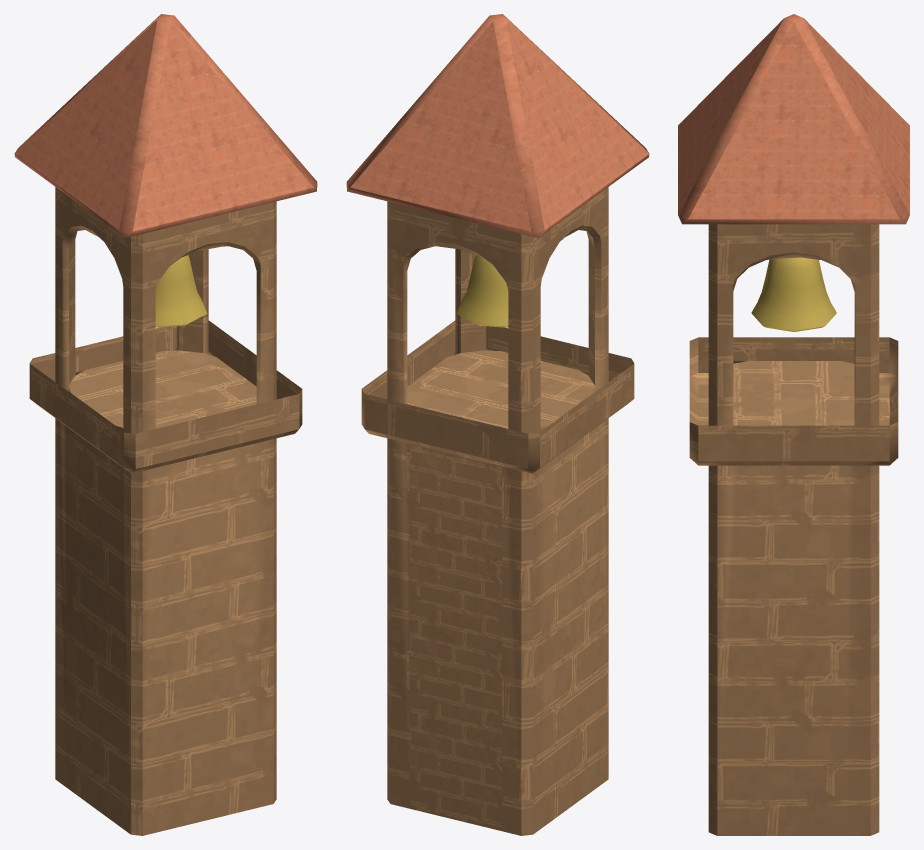
The model's file is mesh_watch_tower.fbx.
The picture shows the model from 3 angles, left to right: view 1: azimuth 30°, elevation 25°; view 2: azimuth 150°, elevation 25°; view 3: azimuth 270°, elevation 25°; orthographic projection.
Visible parts, largest first — view 1: watch_tower after bevel; view 2: watch_tower after bevel; view 3: watch_tower after bevel.
Part boxes in pixels (left/top/right/bottom): watch_tower after bevel: left=14, top=14, right=317, bottom=835; watch_tower after bevel: left=346, top=14, right=649, bottom=835; watch_tower after bevel: left=678, top=14, right=909, bottom=835.
Size of the model in its own units: 257 by 957 by 257.
